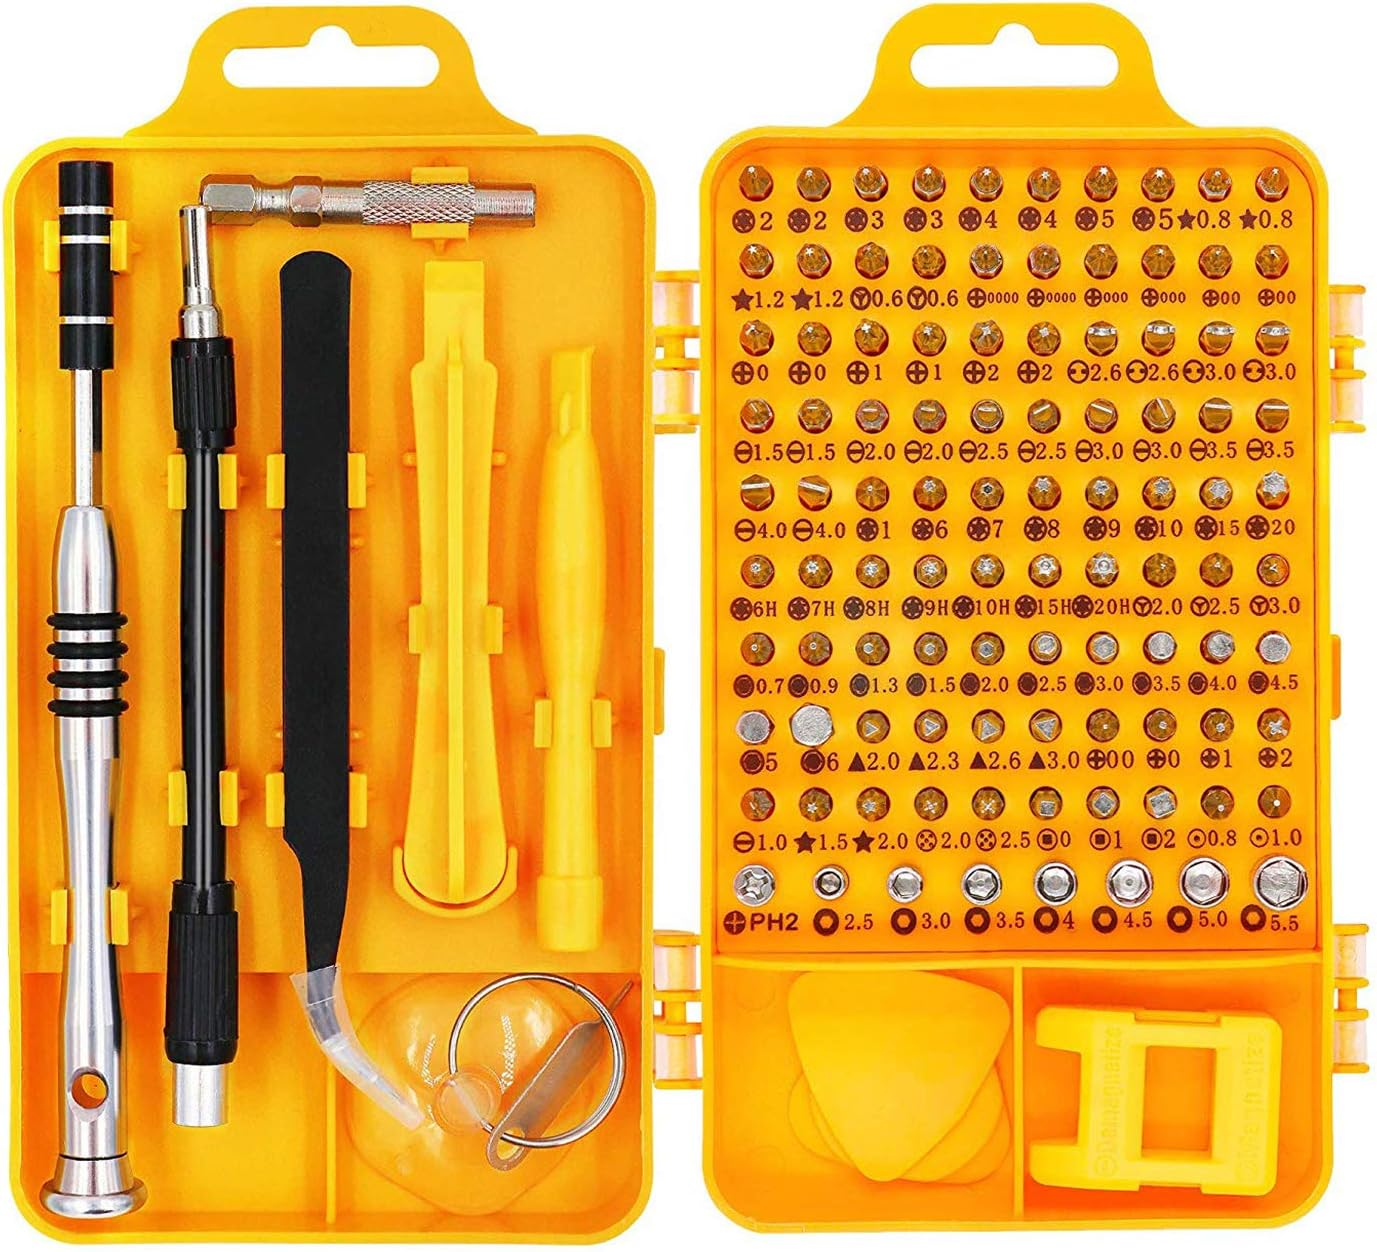screwdriver: (38, 158, 155, 1224), (154, 200, 242, 1125)
